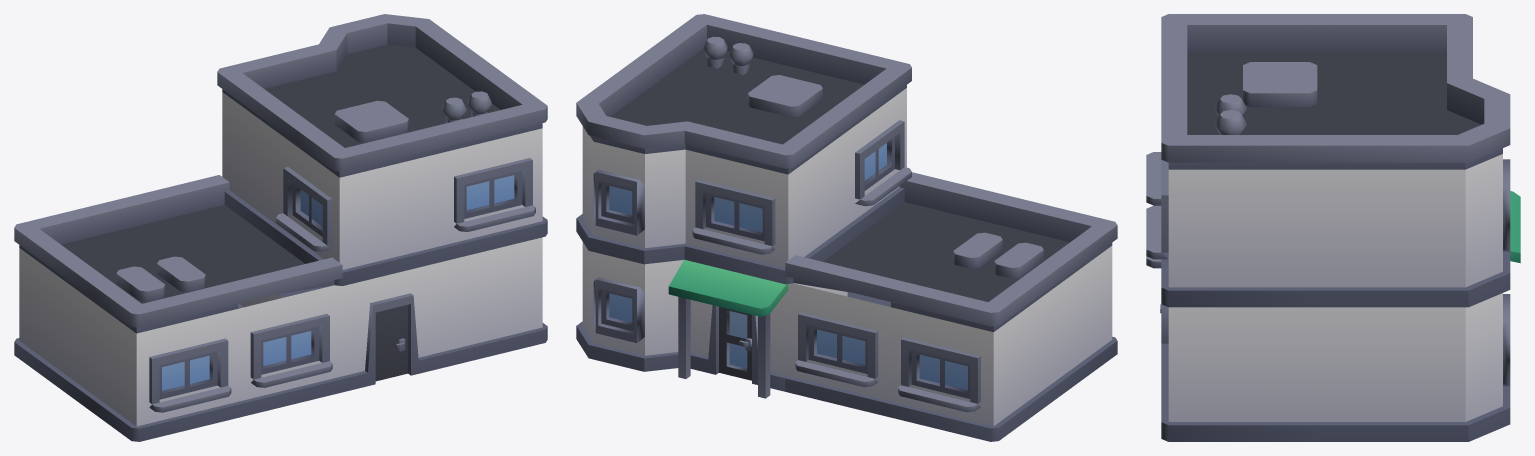
Rendered from school-wide.glb.
The picture shows the model from 3 angles, left to right: view 1: azimuth 30°, elevation 25°; view 2: azimuth 150°, elevation 25°; view 3: azimuth 270°, elevation 25°; orthographic projection. The views are drawn at different scales.
Parts seen in each view (by area): view 1: building-e; view 2: building-e; view 3: building-e.
Boxes of the visible parts, <box> form: building-e: <box>14,14,547,441</box>; building-e: <box>576,14,1117,441</box>; building-e: <box>1146,14,1520,441</box>.
Bounding box in the file's own units: 1.64 × 0.893 × 1.01.
Materials: 1 (1 with a texture image).
